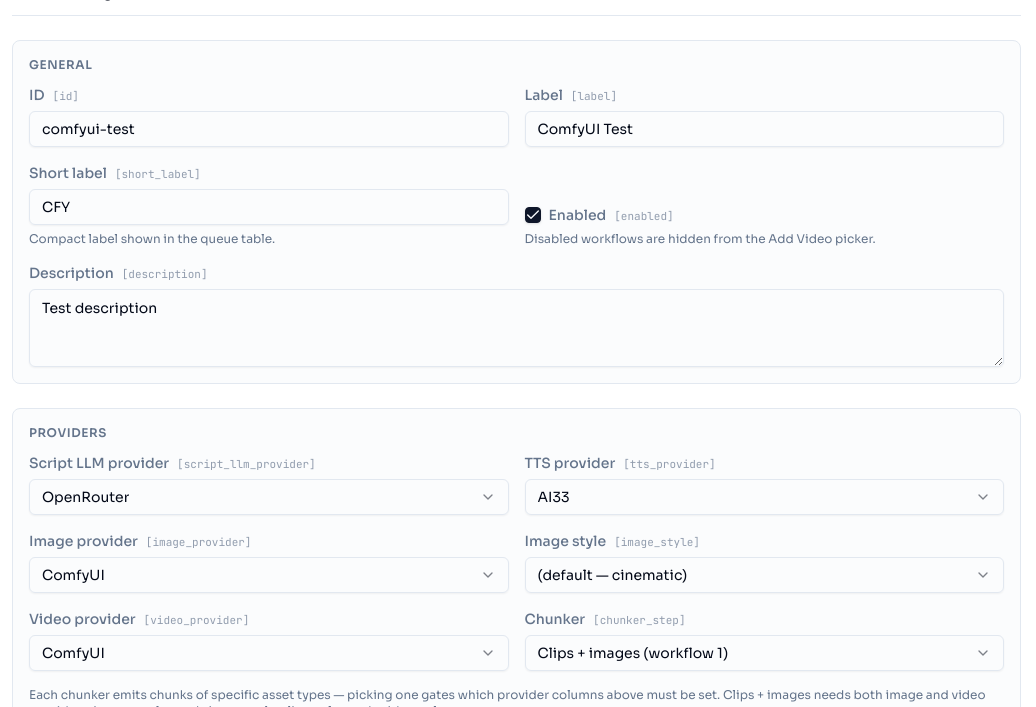
Test case: EditForm Validate now button › a Validate now response replaces warnings left over from a prior Save
Replace the text in the field showing "CFY" with "CFY2" at (269, 207), box x1=29 y1=189 x2=508 y2=225
(page scrolled)
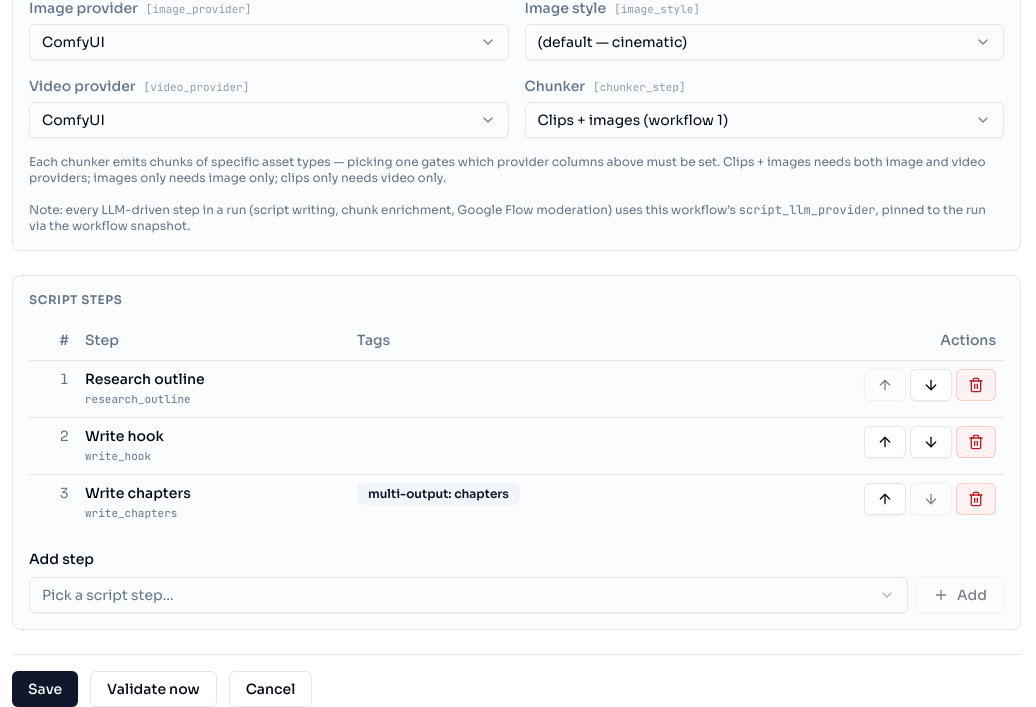
Click the button "Save" at (45, 688), box x1=12 y1=670 x2=78 y2=706
(page scrolled)
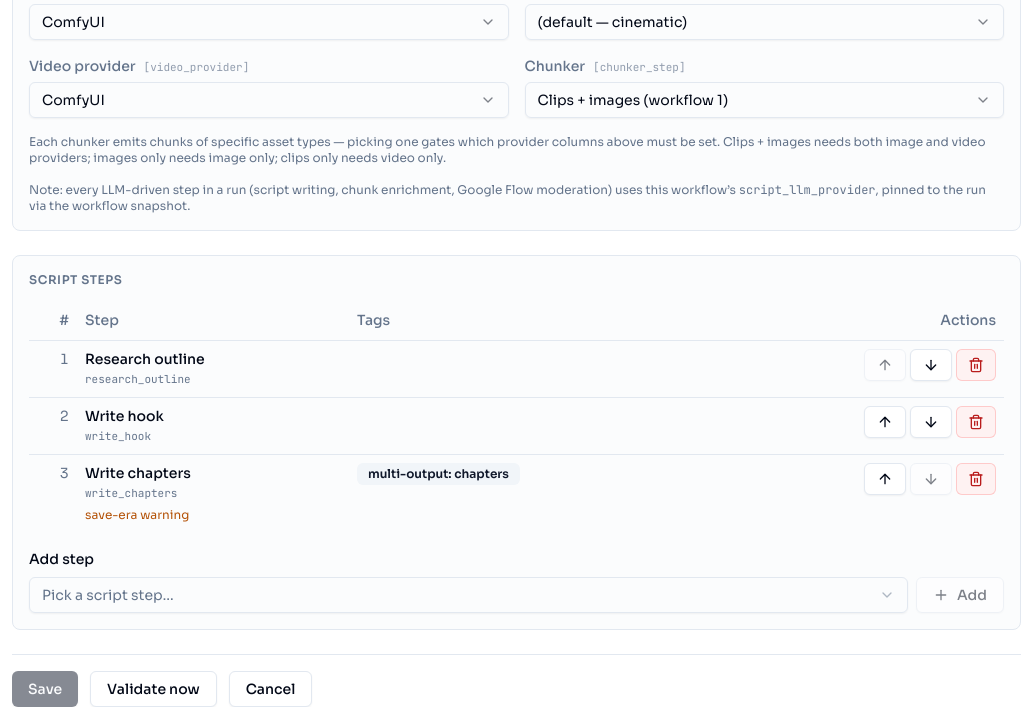
Now the text "save-era warning" is shown, box x1=85 y1=506 x2=189 y2=522
Click the button "Validate now" at (153, 688), box x1=90 y1=670 x2=217 y2=706
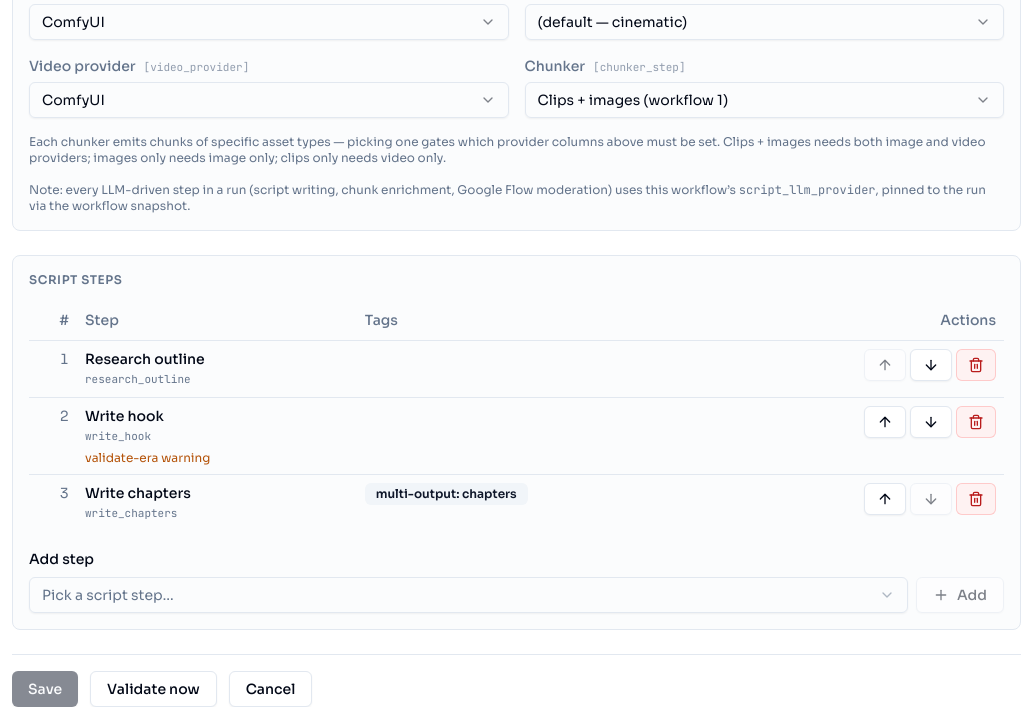
Now the text "save-era warning" is gone
Now the text "validate-era warning" is shown, box x1=85 y1=450 x2=210 y2=464
